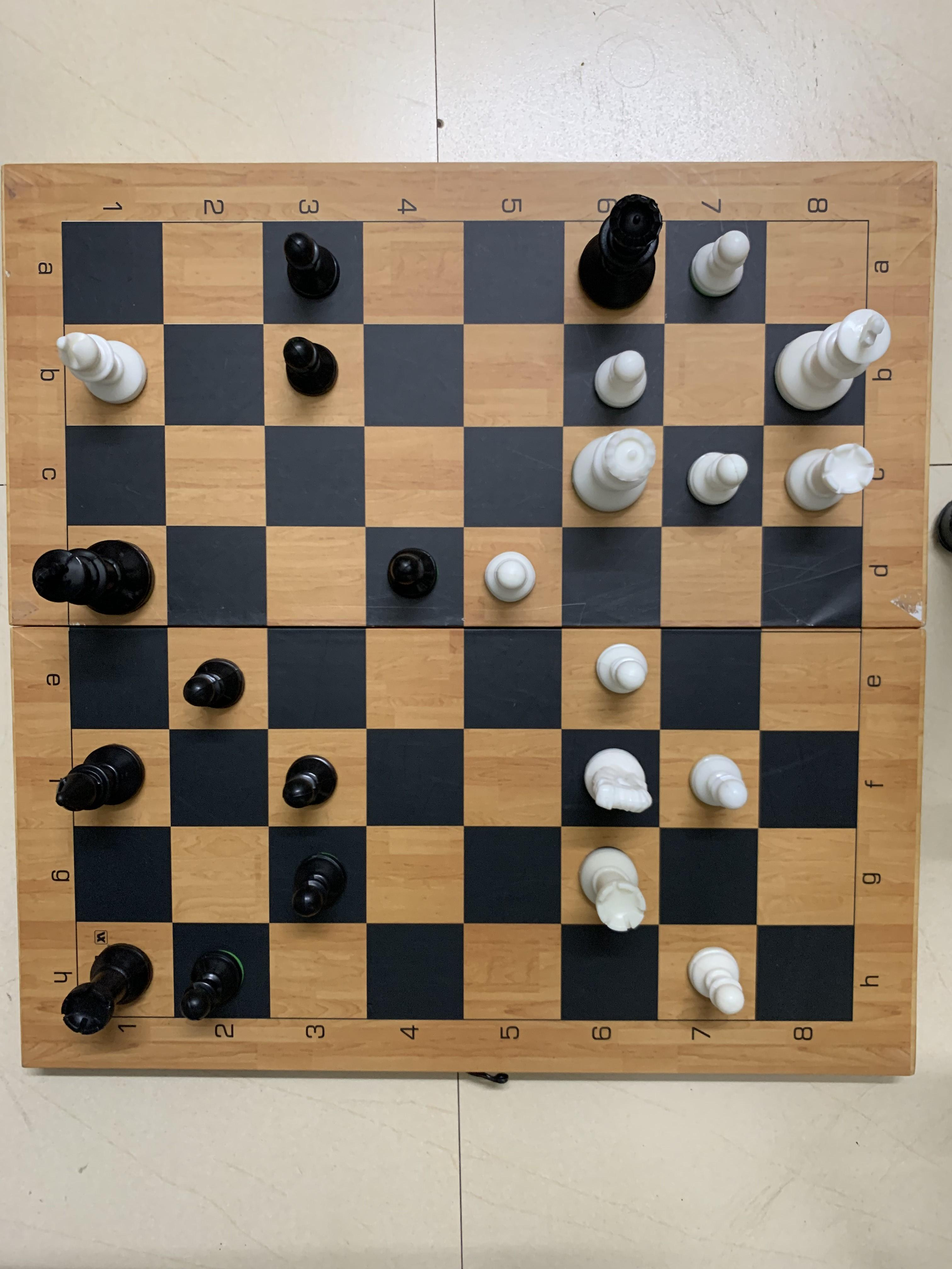black_bishop: (54, 735, 158, 828)
black_king: (22, 535, 157, 624)
black_pawn: (268, 321, 360, 416), (172, 933, 266, 1022), (175, 631, 254, 728), (274, 738, 361, 825), (268, 228, 353, 315), (274, 834, 358, 916), (371, 540, 448, 619)
black_queen: (565, 195, 671, 307)
black_rook: (65, 926, 149, 1041)
white_bishop: (54, 329, 149, 430)
white_king: (771, 312, 895, 416)
white_knight: (565, 740, 652, 819)
white_pawn: (466, 529, 557, 632), (674, 217, 767, 310), (667, 735, 761, 825), (564, 638, 659, 726), (674, 929, 756, 1027), (677, 436, 764, 524), (576, 334, 662, 421)
white_queen: (565, 427, 664, 528)
white_rook: (560, 833, 666, 938), (771, 424, 878, 523)
